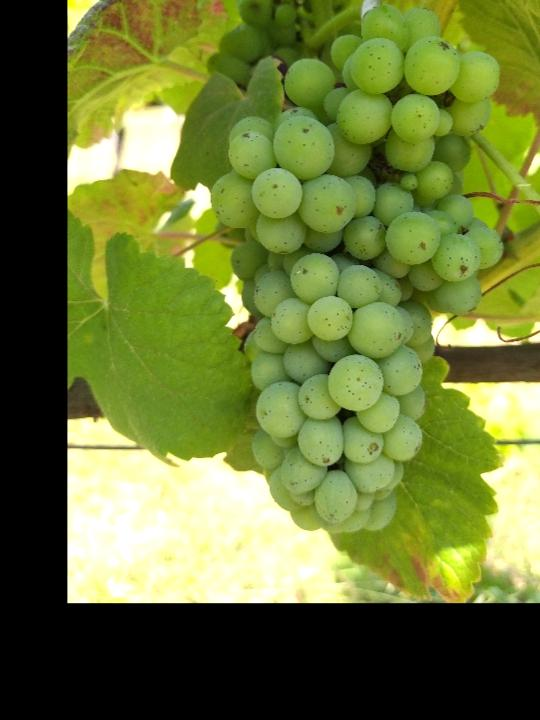grape: (205, 0, 502, 536)
